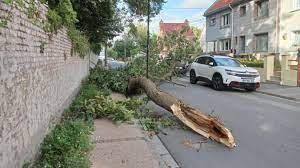car: (186, 51, 260, 95)
obstacle: (110, 70, 237, 156)
